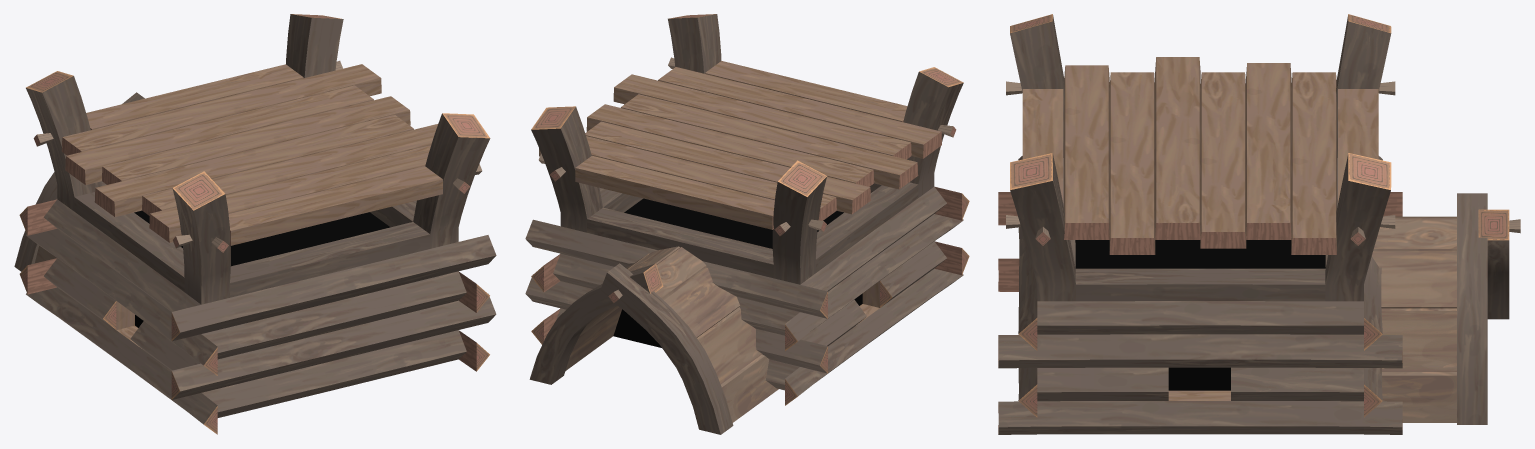
The model's file is Obj_Casa.fbx.
3 renders of one model, left to right at view 1: azimuth 30°, elevation 25°; view 2: azimuth 150°, elevation 25°; view 3: azimuth 270°, elevation 25°, orthographic. The views are drawn at different scales.
Parts seen in each view (by area): view 1: Obj_Casa; view 2: Obj_Casa; view 3: Obj_Casa.
Part boxes in pixels (<box>): Obj_Casa: <box>14,14,496,434</box>; Obj_Casa: <box>525,14,969,434</box>; Obj_Casa: <box>998,14,1520,434</box>.
Bounding box in the file's own units: 9.27 × 6.66 × 11.31.
2 materials, 1 textured.
